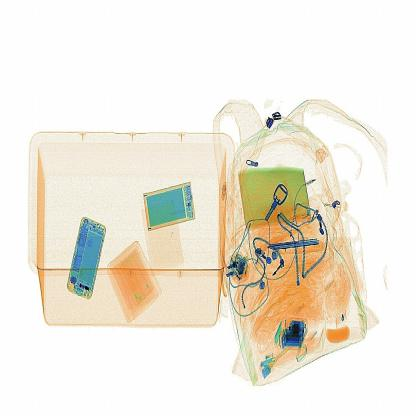pliers: (266, 235, 334, 260)
